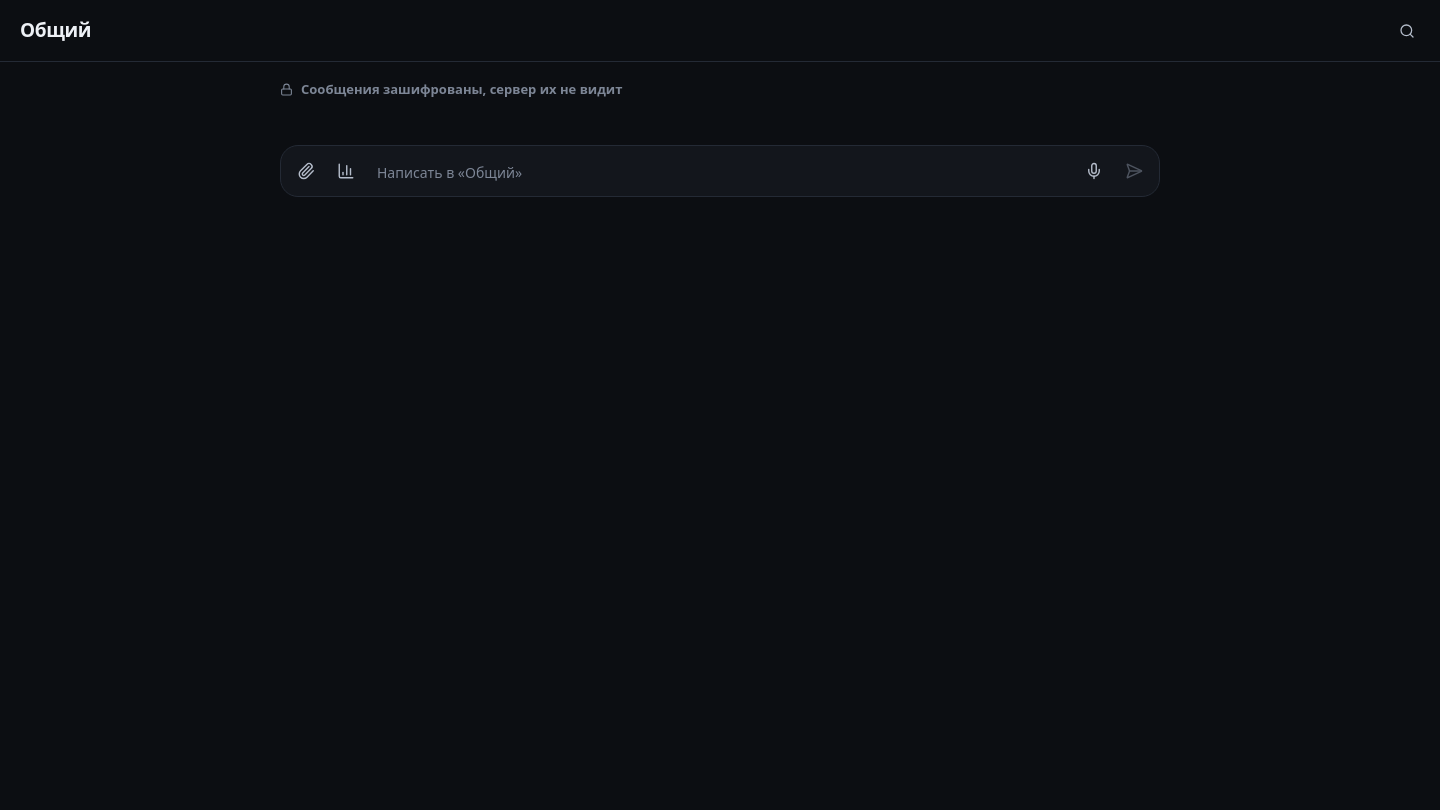
Test case: attachments › a photo opens in the photo editor and a video in the video editor; other files in neither
Click the button named "Прикрепить": click(306, 171) [287,152,325,190]
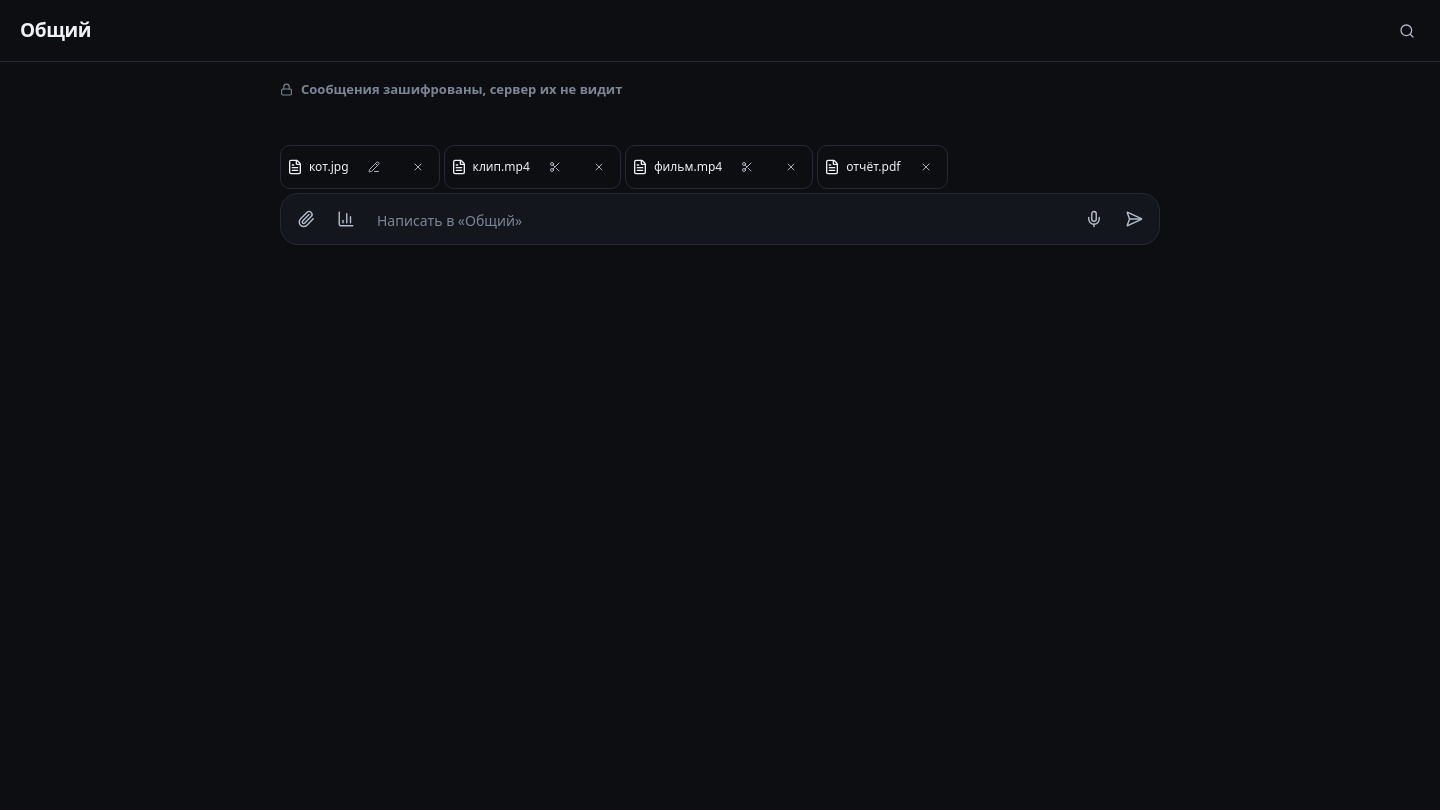
Click the button named "Изменить «кот.jpg»": click(374, 167) [354,148,392,186]
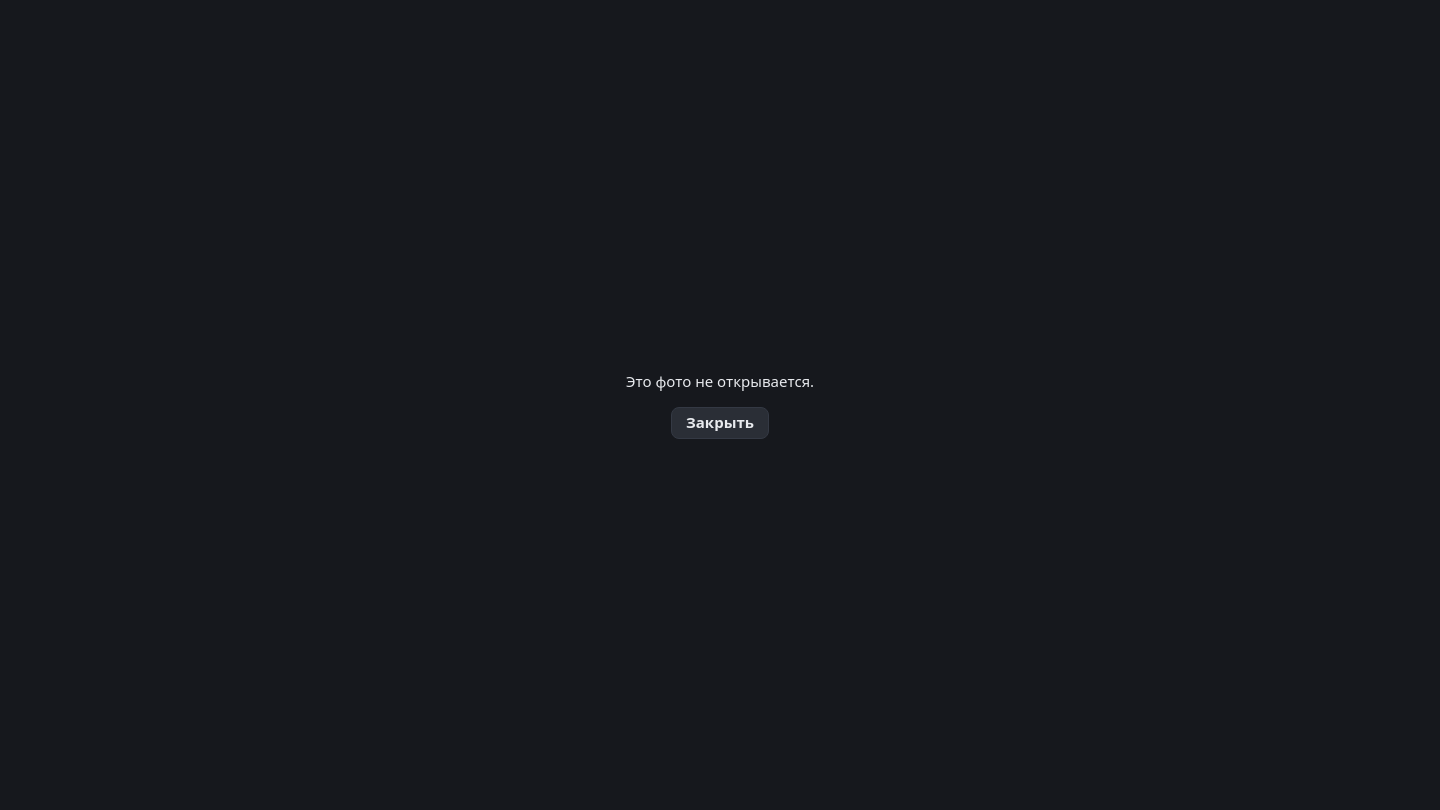
expect the dialog named "Редактор фото" is shown: met
